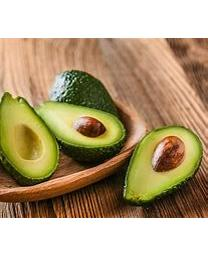avocado: (121, 123, 205, 205), (35, 96, 128, 166), (1, 90, 62, 186)
